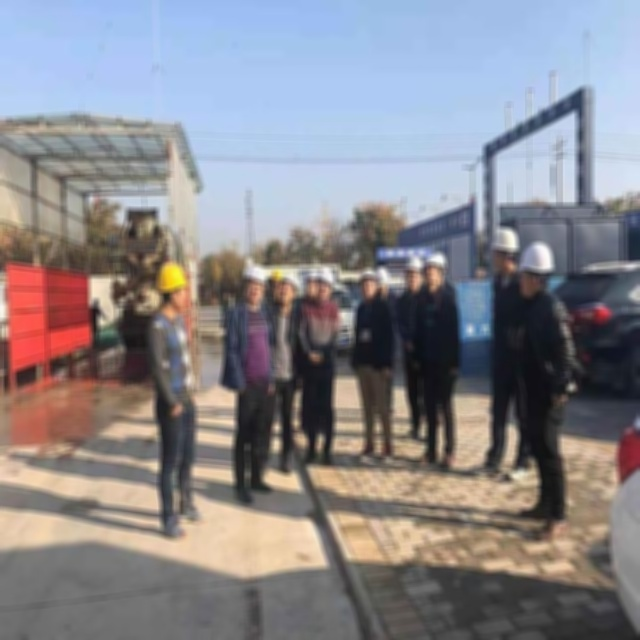Con_Casco: (520, 243, 552, 294), (159, 263, 189, 312), (245, 264, 268, 303), (316, 267, 334, 301)
